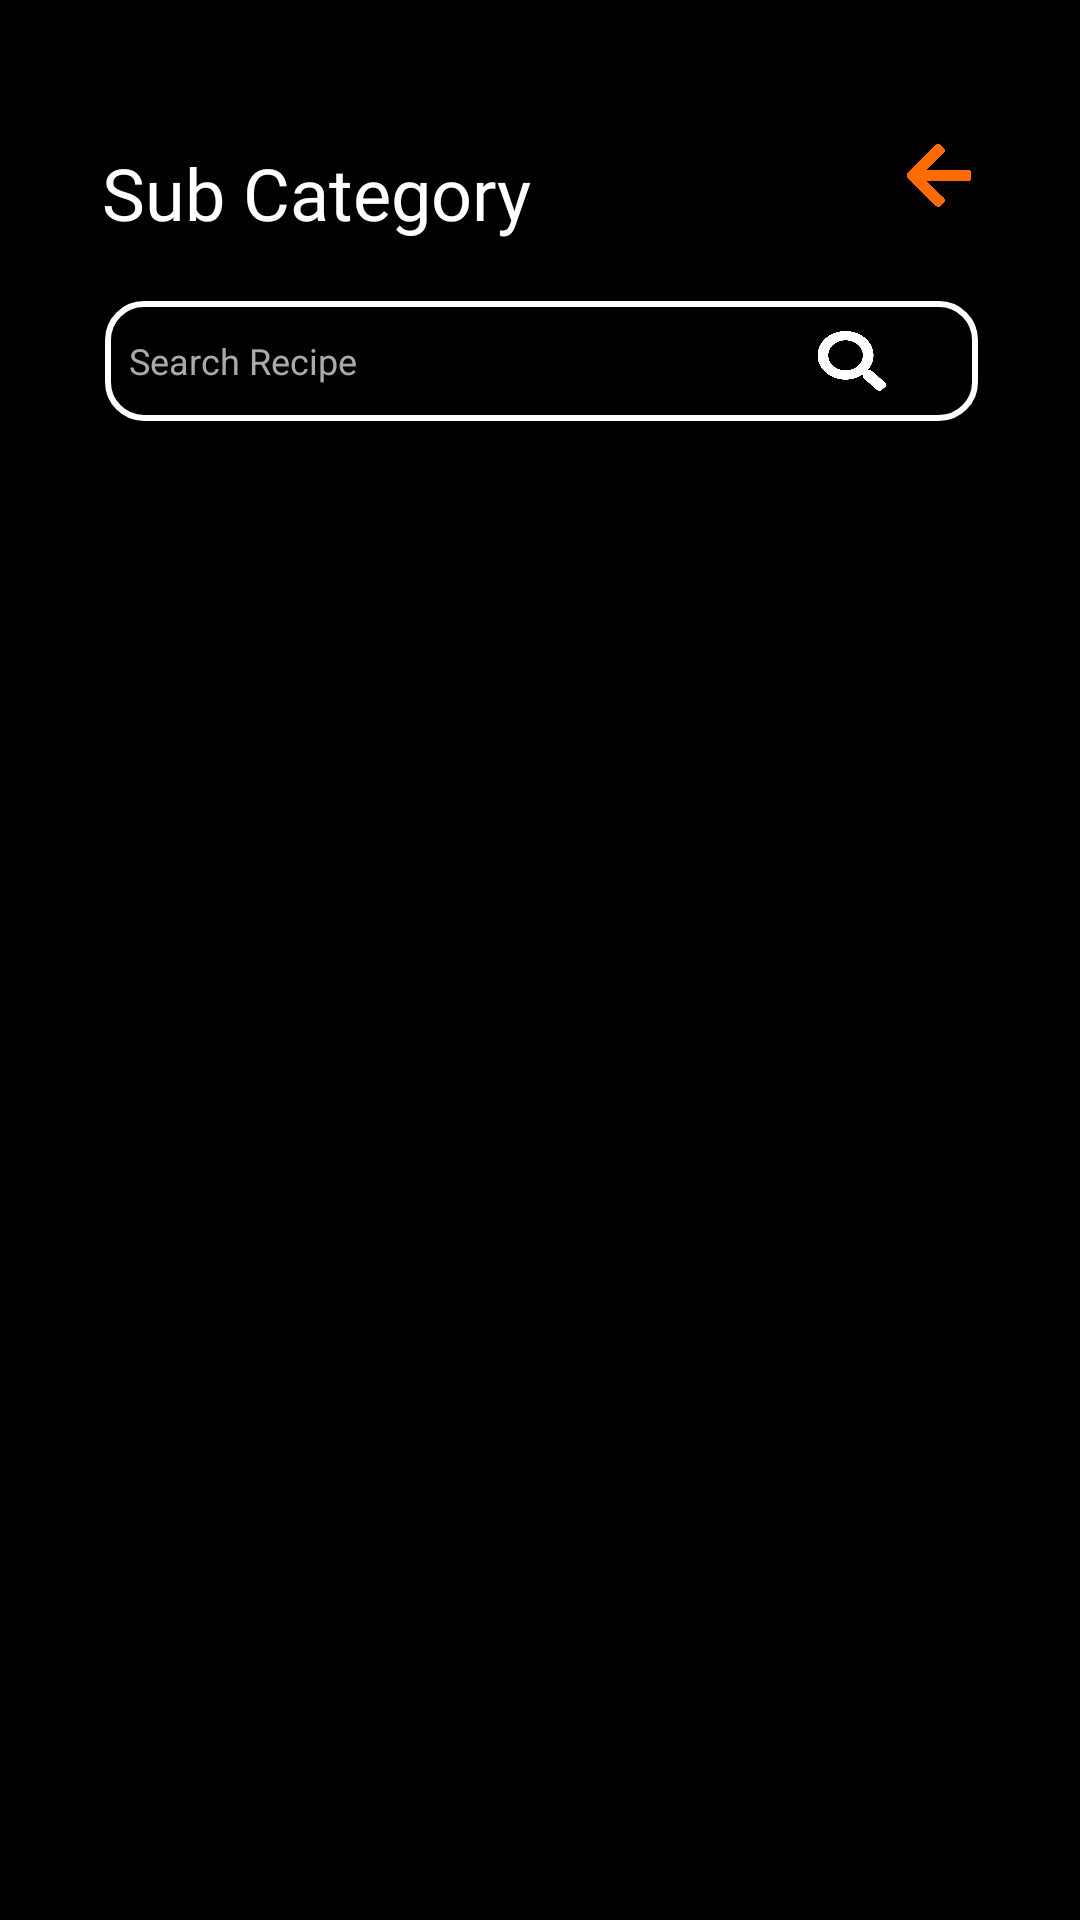

Screen size 1080 x 1920. Icon name, then its center in pixels as (x,y):
back: (939,175)
